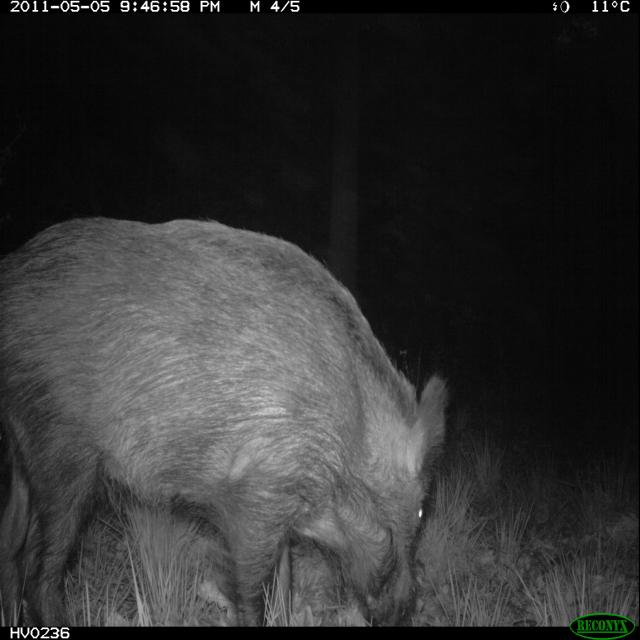boar: (0, 179, 456, 636)
